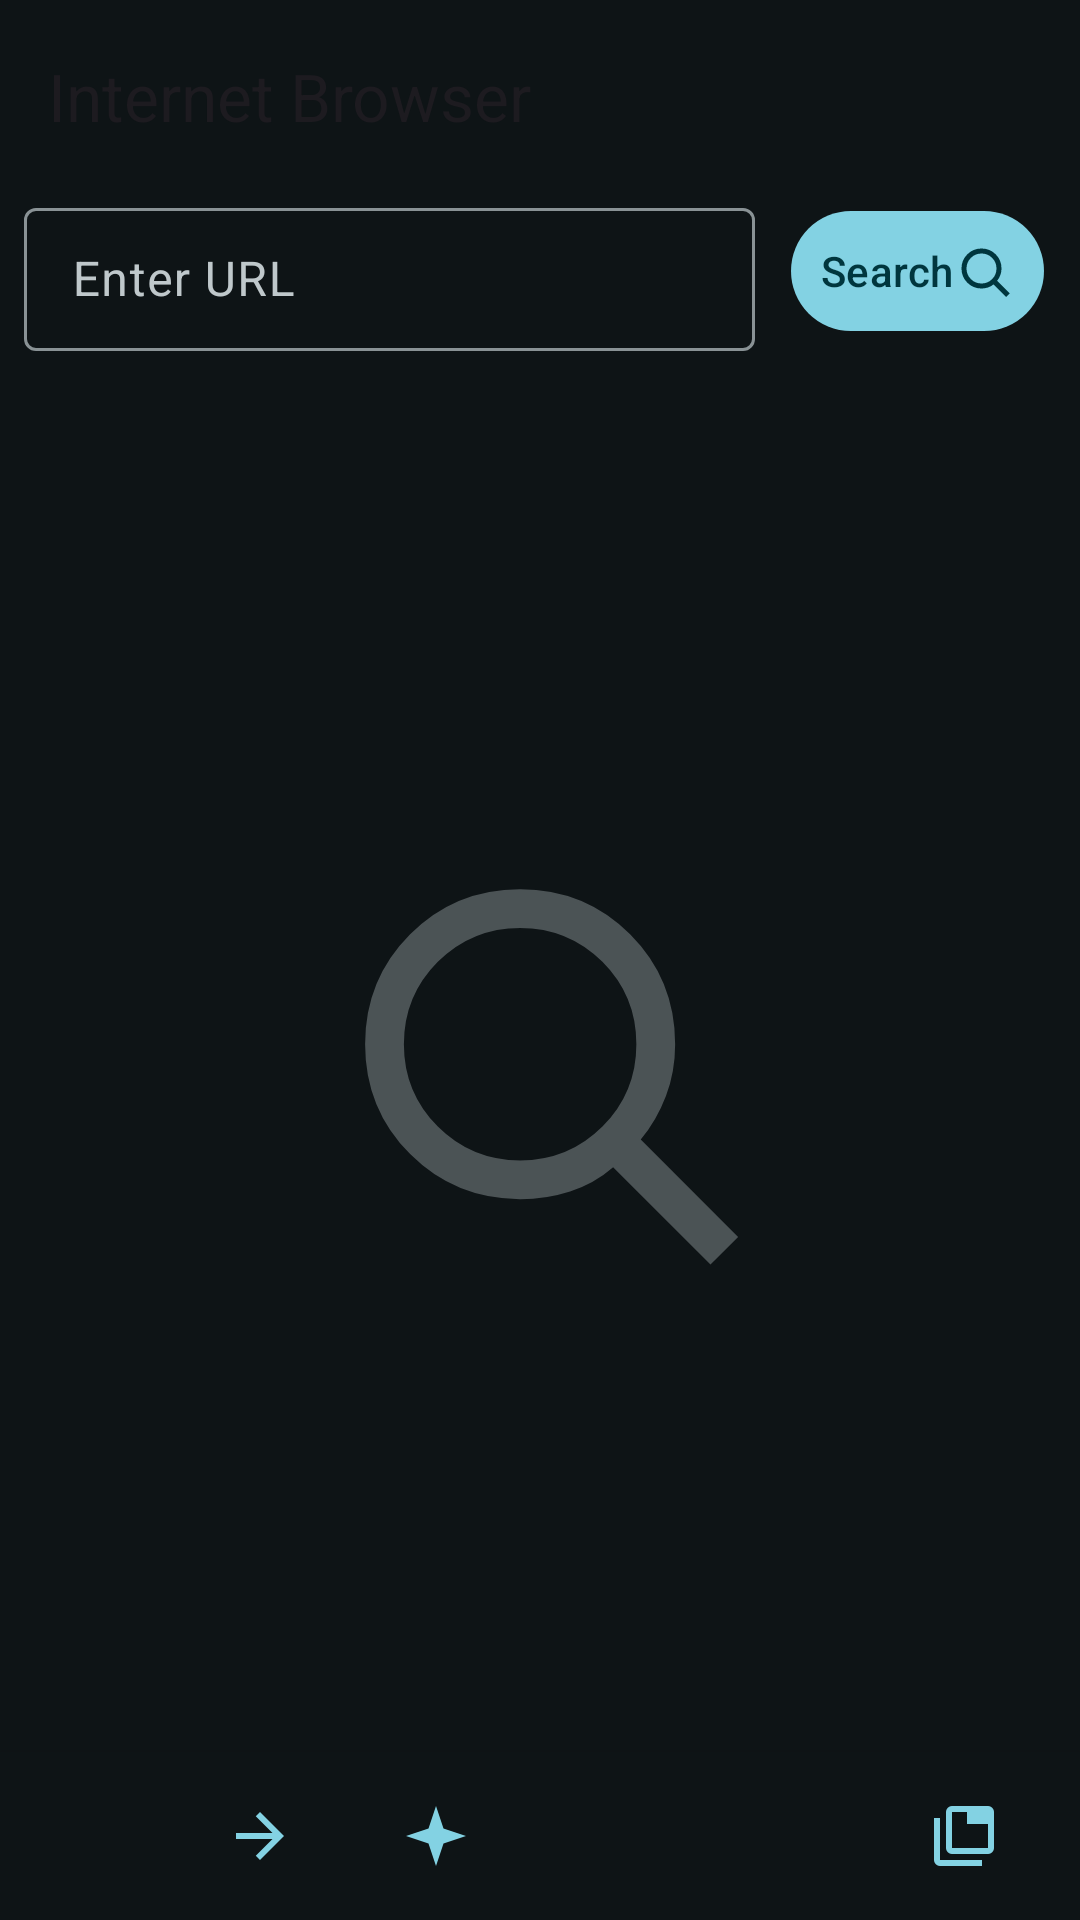

Named icons in this screenshot (1080×1920) and their centers, (x=x, y=y):
forward: (x=260, y=1836)
tab: (x=964, y=1836)
